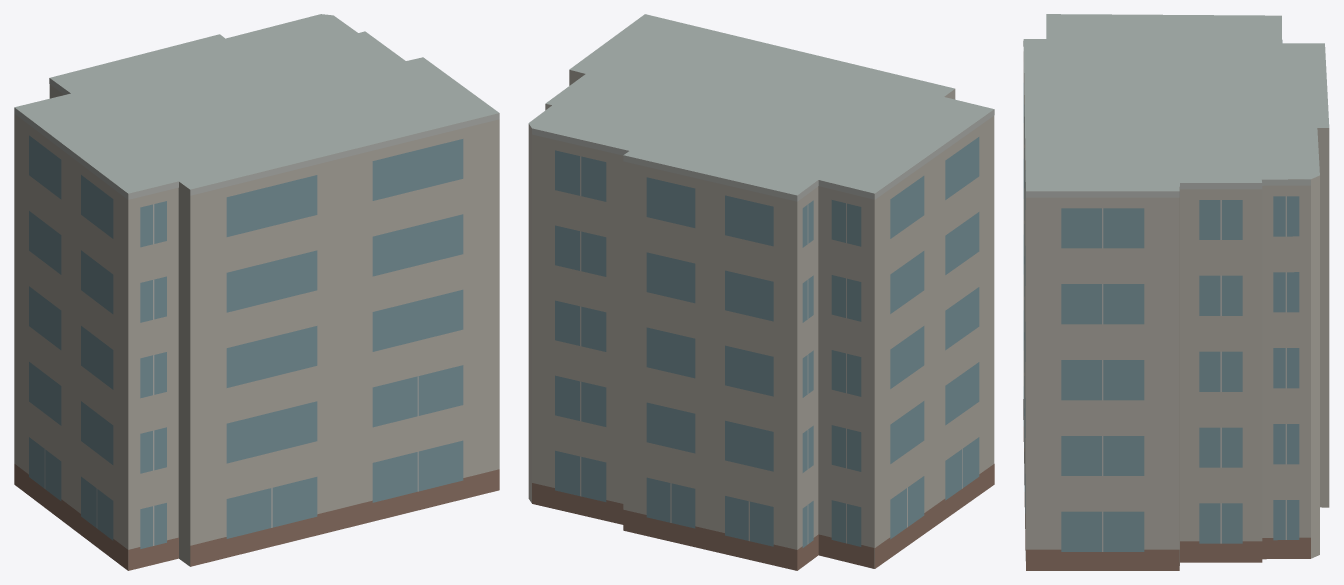
The model's file is survey-upis-32660490.glb.
The picture shows the model from 3 angles, left to right: view 1: azimuth 30°, elevation 25°; view 2: azimuth 150°, elevation 25°; view 3: azimuth 270°, elevation 25°; orthographic projection.
Parts seen in each view (by area): view 1: survey-upis-32660490.tmp; view 2: survey-upis-32660490.tmp; view 3: survey-upis-32660490.tmp.
Part boxes in pixels (x1,y1,x2,y2): survey-upis-32660490.tmp: (14, 14, 499, 570); survey-upis-32660490.tmp: (528, 14, 994, 570); survey-upis-32660490.tmp: (1023, 14, 1329, 570).
Bounding box in the file's own units: 14.85 × 14.8 × 10.82.
